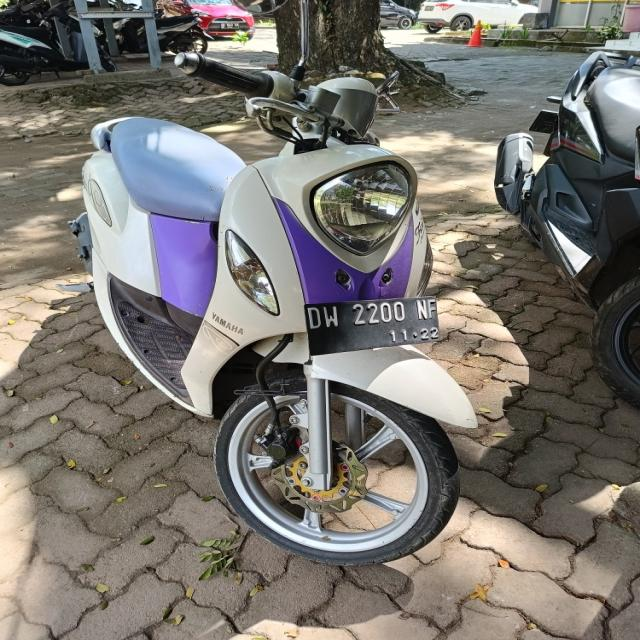plates: (305, 288, 446, 342)
